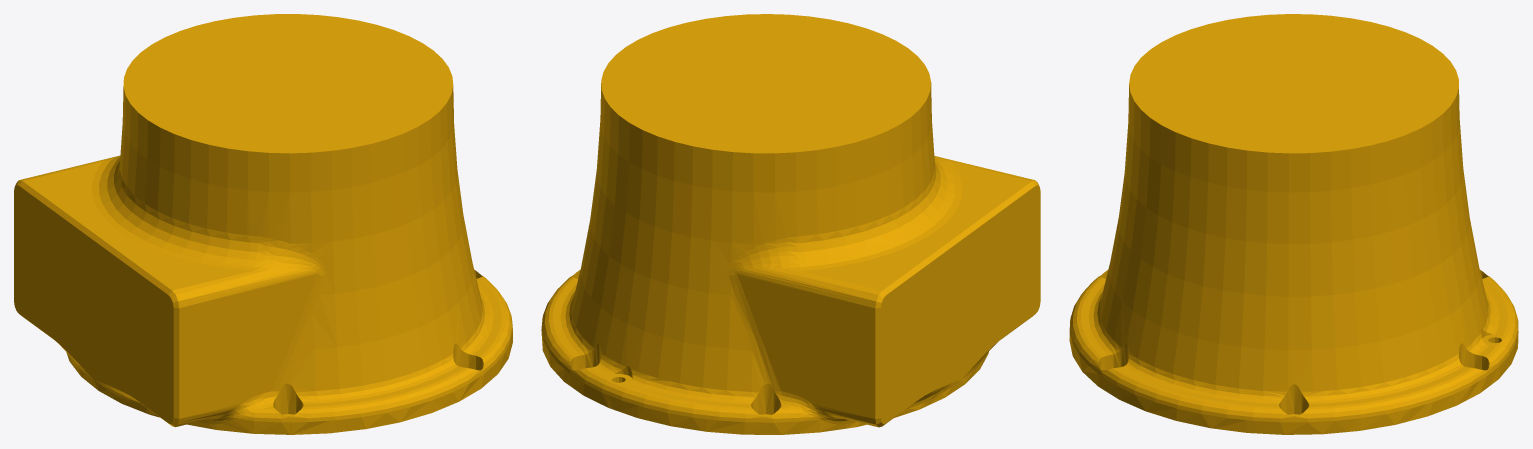
3 renders of one model, left to right at view 1: azimuth 30°, elevation 25°; view 2: azimuth 150°, elevation 25°; view 3: azimuth 270°, elevation 25°, orthographic.
Parts seen in each view (by area): view 1: base; view 2: base; view 3: base.
Part boxes in pixels (x1,y1,x2,y2): base: (14, 14, 512, 434); base: (541, 14, 1040, 434); base: (1069, 14, 1518, 434).
Size of the model in its own units: 0.1619 by 0.1619 by 0.102.
